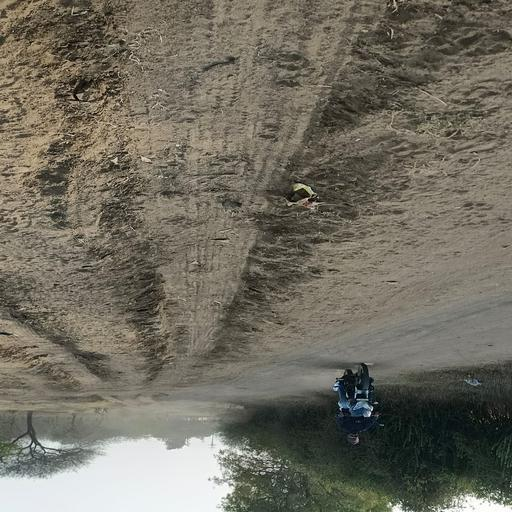vehicle_track: (111, 2, 368, 385), (212, 282, 512, 393), (0, 315, 103, 386)
